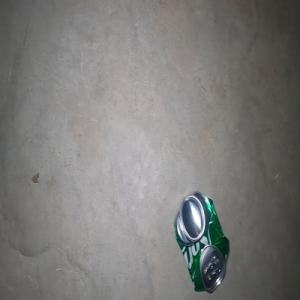SodaCan: (173, 190, 229, 293)
